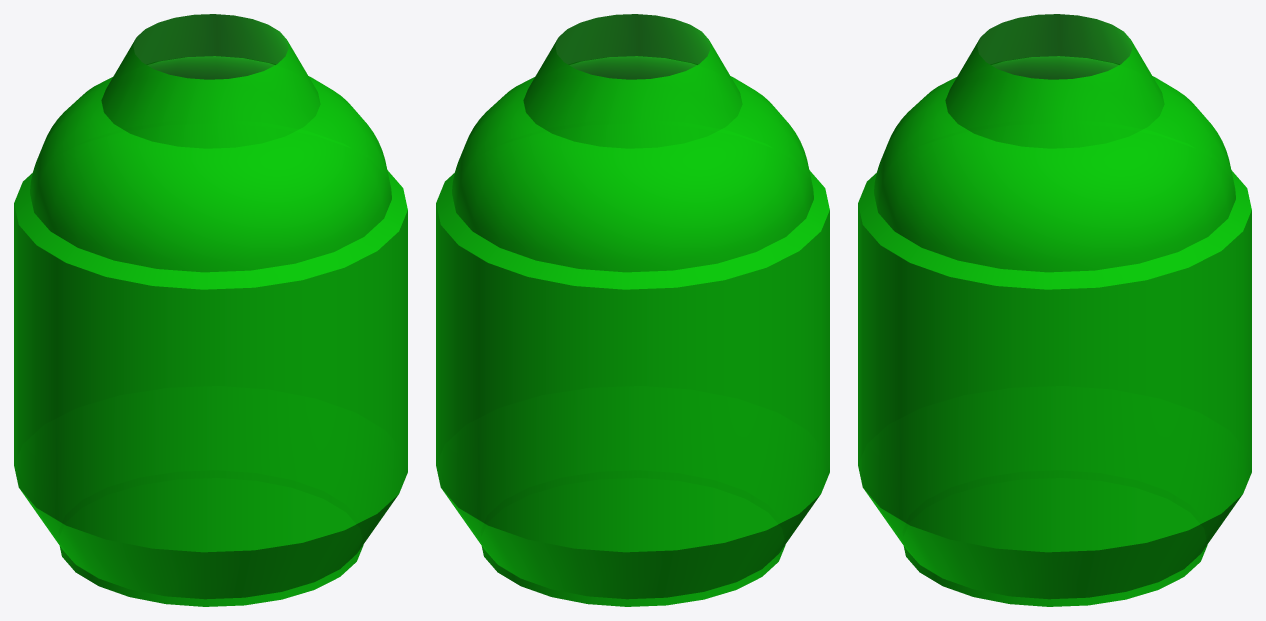
Rendered from original-1.obj.
The picture shows the model from 3 angles, left to right: view 1: azimuth 30°, elevation 25°; view 2: azimuth 150°, elevation 25°; view 3: azimuth 270°, elevation 25°; orthographic projection.
Visible parts, largest first — view 1: 3dw.9b9a4bb5550f00ea586350d6e78ecc7/Model/mesh1/mesh1-geometry/m; view 2: 3dw.9b9a4bb5550f00ea586350d6e78ecc7/Model/mesh1/mesh1-geometry/m; view 3: 3dw.9b9a4bb5550f00ea586350d6e78ecc7/Model/mesh1/mesh1-geometry/m.
Boxes of the visible parts, x1,y1,x2,y2 form: 3dw.9b9a4bb5550f00ea586350d6e78ecc7/Model/mesh1/mesh1-geometry/m: [14, 14, 407, 606]; 3dw.9b9a4bb5550f00ea586350d6e78ecc7/Model/mesh1/mesh1-geometry/m: [436, 14, 829, 606]; 3dw.9b9a4bb5550f00ea586350d6e78ecc7/Model/mesh1/mesh1-geometry/m: [858, 14, 1251, 606].
Size of the model in its own units: 0.7029 by 0.976 by 0.7029.
